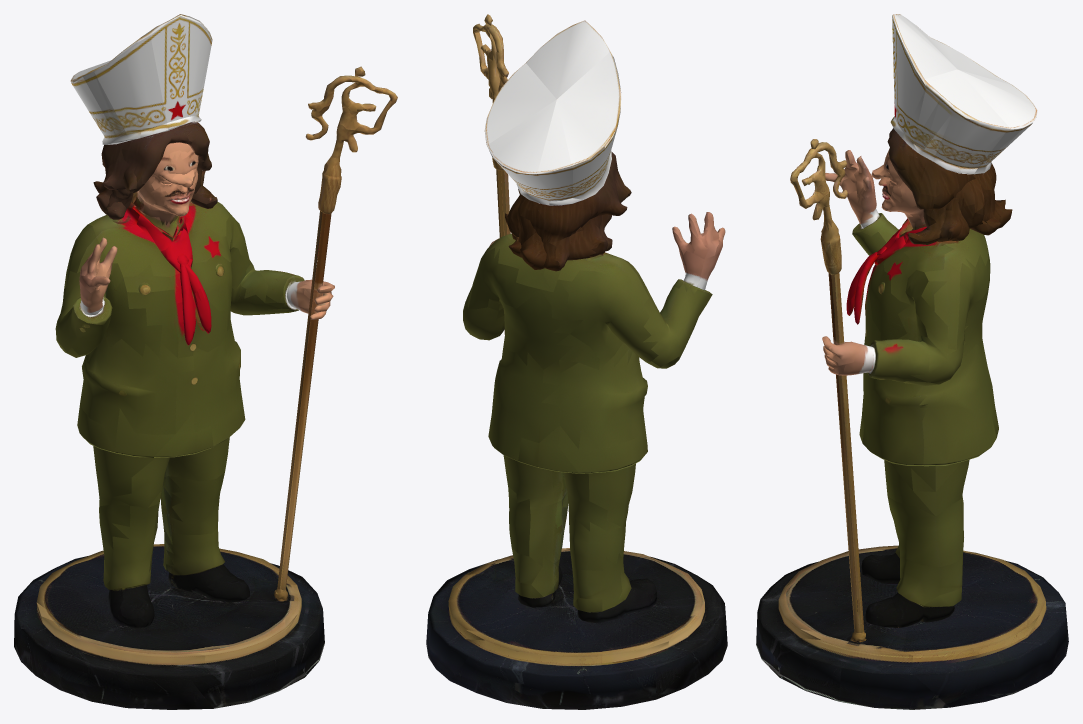
Rendered from left-bishop.glb.
The picture shows the model from 3 angles, left to right: view 1: azimuth 30°, elevation 25°; view 2: azimuth 150°, elevation 25°; view 3: azimuth 270°, elevation 25°; orthographic projection. The views are drawn at different scales.
Size of the model in its own units: 0.4951 by 1 by 0.4492.
1 material, 1 textured.
